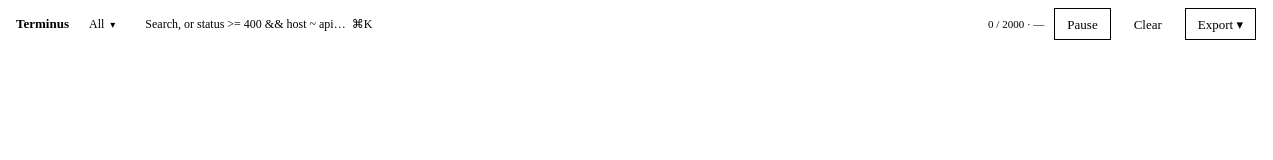
Test: Topbar › handles a rejected clear() (no unhandled rejection): warns and shows an inline error
Click the button "Clear": (1148, 24) 1121,8 -> 1175,40
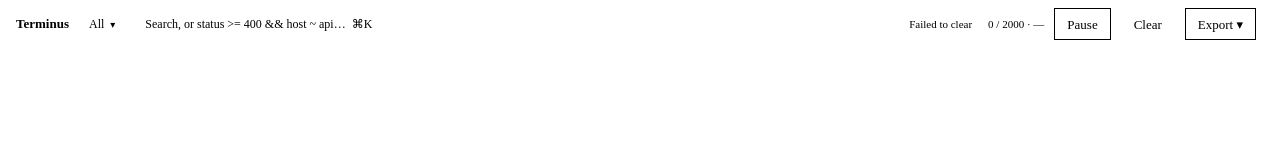
Expected: the text "Failed to clear" is shown, 909,18 -> 972,30
